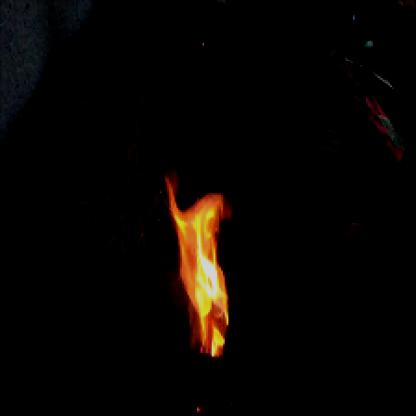Fire: (152, 164, 245, 360)
